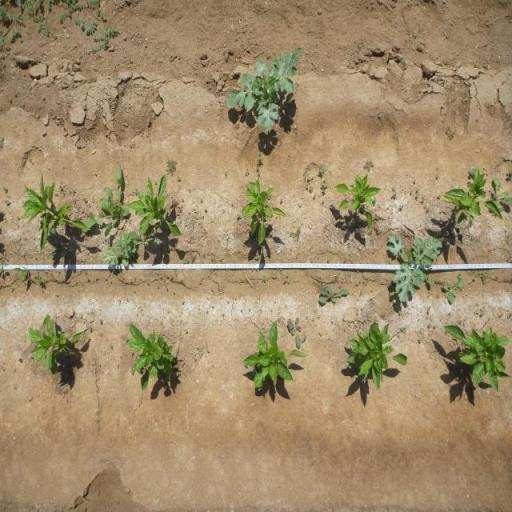plant: (19, 171, 86, 253), (241, 319, 310, 397), (441, 323, 512, 395), (344, 319, 409, 393), (26, 312, 86, 382), (440, 168, 501, 230), (331, 172, 383, 237), (130, 174, 184, 236), (129, 324, 176, 390), (241, 176, 281, 246)
weed: (221, 45, 304, 133), (0, 0, 119, 56), (384, 234, 443, 302), (86, 163, 128, 234), (104, 229, 134, 272), (492, 175, 512, 214), (318, 283, 350, 304), (46, 228, 68, 258), (442, 276, 464, 304), (12, 268, 43, 286), (287, 316, 302, 347), (131, 232, 154, 250), (289, 224, 303, 242), (472, 270, 488, 285), (165, 157, 177, 175), (364, 158, 376, 174), (320, 178, 328, 194), (0, 256, 6, 273), (281, 274, 291, 284), (390, 186, 397, 200), (318, 166, 326, 176), (255, 163, 261, 175), (468, 167, 476, 176), (504, 170, 512, 179), (257, 152, 264, 162), (261, 273, 267, 284), (415, 187, 420, 200), (302, 334, 308, 344), (243, 167, 250, 175), (108, 344, 114, 352), (182, 258, 190, 264), (398, 204, 404, 212), (372, 196, 378, 204), (400, 326, 406, 334), (329, 203, 335, 210), (88, 324, 92, 334), (426, 303, 430, 313), (10, 286, 16, 292), (4, 199, 10, 205), (2, 186, 8, 192), (254, 256, 260, 262), (236, 213, 242, 219), (308, 176, 314, 182), (456, 272, 462, 278), (18, 358, 24, 363), (309, 185, 313, 192), (177, 368, 180, 376), (184, 328, 188, 334), (428, 322, 432, 328), (418, 338, 422, 344), (326, 258, 330, 264), (305, 183, 308, 190), (177, 176, 181, 181), (99, 318, 102, 324), (204, 208, 207, 212)
